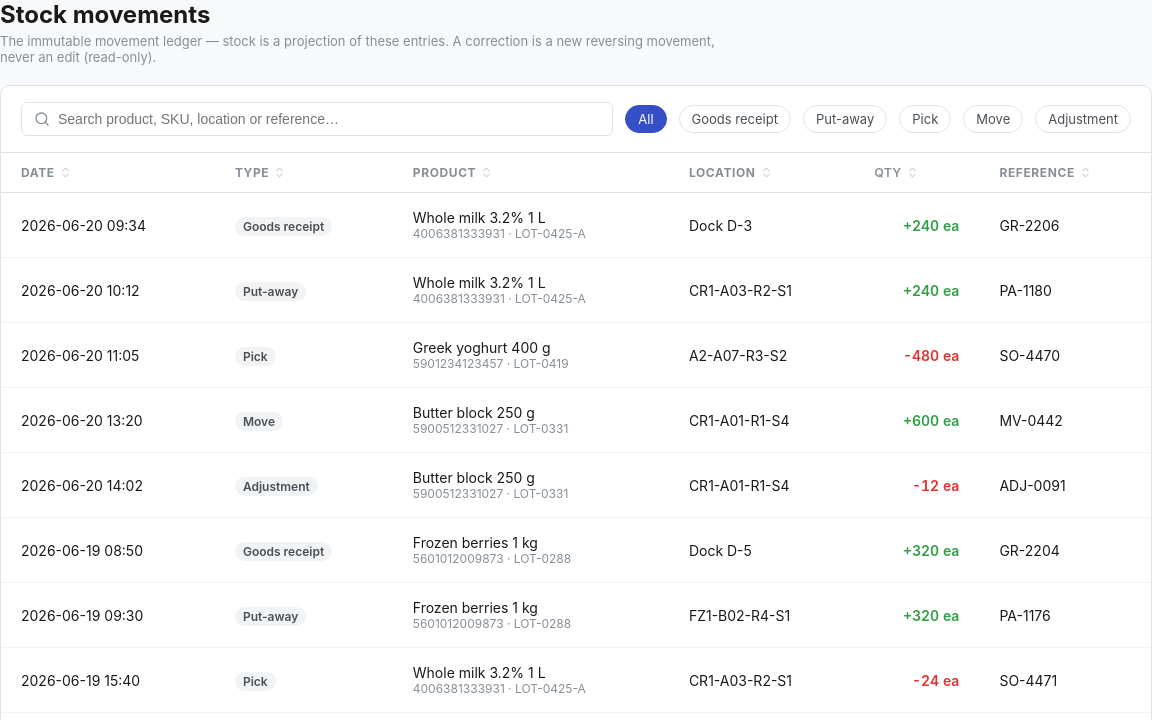
it: MovementsScreen › filters by movement type
Expected: the text "GR-2206" is shown, [979, 192, 1151, 258]
Click the button "Pick".
click(925, 119)  # box [899, 105, 951, 133]
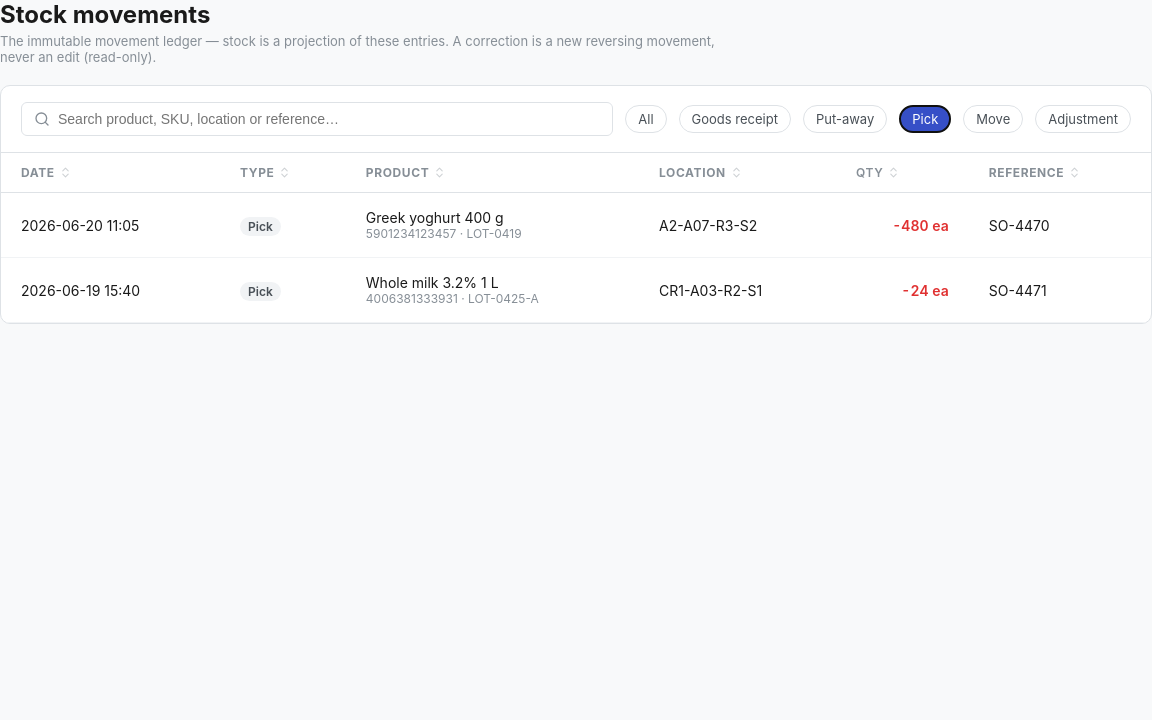
Now the text "SO-4470" is shown, box [969, 192, 1151, 258]
Now the text "GR-2206" is gone
